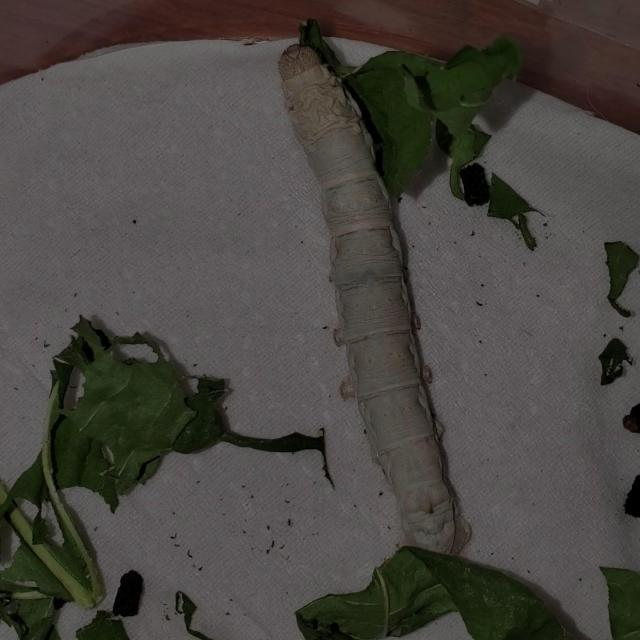Healthy: (264, 32, 496, 561)
